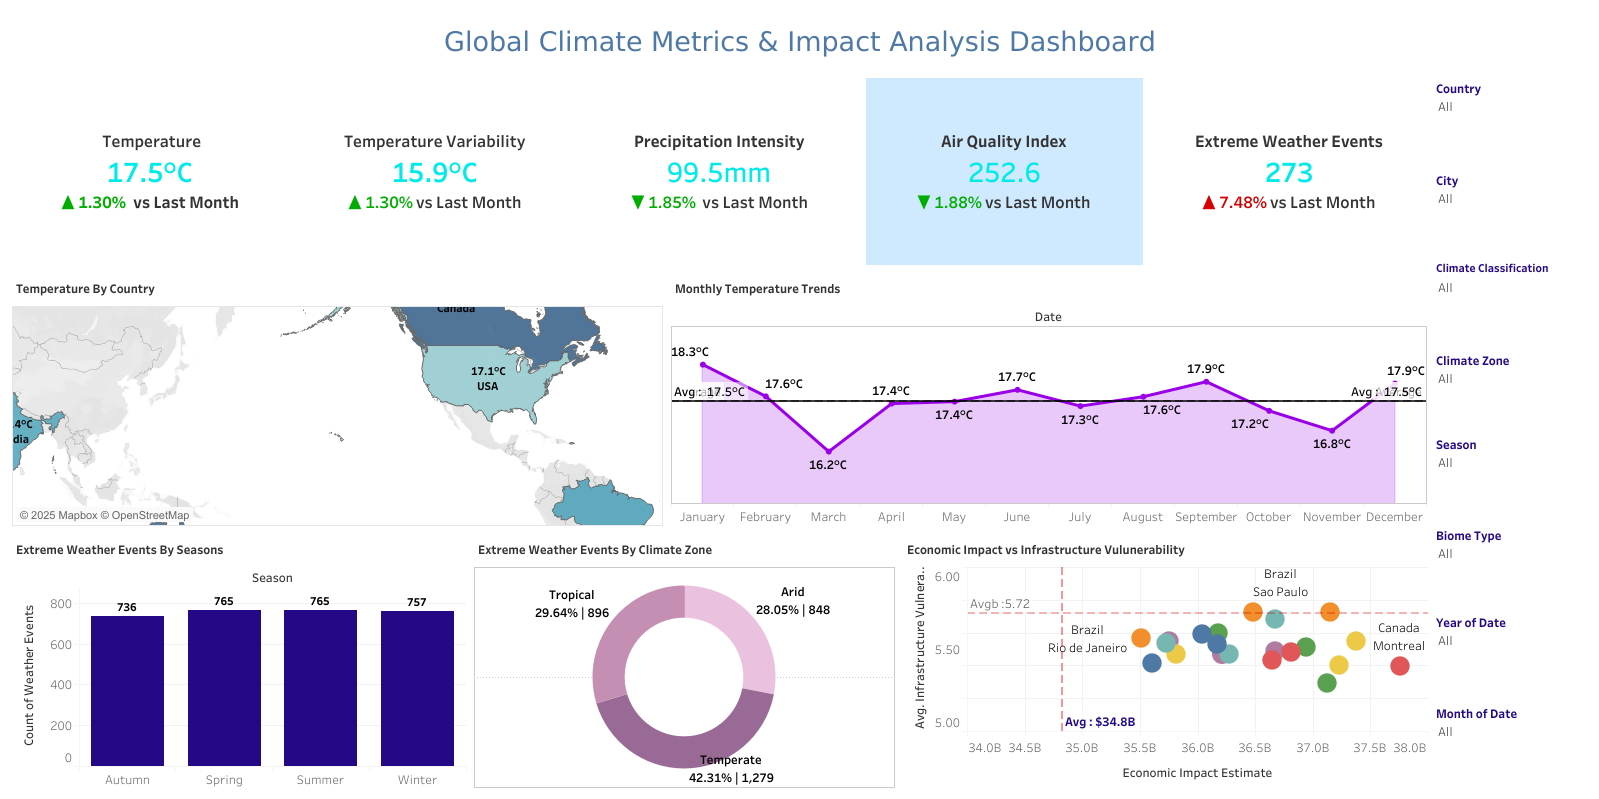

The page's visual inventory and layout, read from the dashboard file:
{"tool":"tableau","page":{"name":"Dashboard 1","canvas":[1600,800],"ordinal":0},"visuals":[{"type":"title","box":[8,8,1584,66]},{"type":"worksheet","title":"TEM","mark":"Automatic","box":[8,74,284.8,195]},{"type":"worksheet","title":"TEMP VAR","mark":"Automatic","box":[292.8,74,284.8,195]},{"type":"worksheet","title":"PCI","mark":"Automatic","box":[577.6,74,284.8,195]},{"type":"worksheet","title":"AQI","mark":"Automatic","box":[862.4,74,284.8,195]},{"type":"worksheet","title":"EWE","mark":"Automatic","box":[1147.2,74,284.8,195]},{"type":"filter","title":"Sheet 15","param":"[federated.1abbkwf12dhwoo100k8ox0incbjb].[none:Country:nk]","box":[1432,74,160,92.5]},{"type":"filter","title":"Sheet 15","param":"[federated.1abbkwf12dhwoo100k8ox0incbjb].[none:City:nk]","box":[1432,166.5,160,89]},{"type":"filter","title":"Sheet 15","param":"[federated.1abbkwf12dhwoo100k8ox0incbjb].[none:Climate Classification:nk]","box":[1432,255.5,160,91]},{"type":"worksheet","title":"Sheet 11","mark":"Automatic","box":[8,269,659,261.5]},{"type":"worksheet","title":"Monthly Temperature Trends ","mark":"Area","rows":["Calculation_1173469246238244871","Calculation_1173469246238244871"],"cols":["Date"],"box":[667,269,765,261.5]},{"type":"filter","title":"Sheet 15","param":"[federated.1abbkwf12dhwoo100k8ox0incbjb].[none:Climate Zone:nk]","box":[1432,346.5,160,84]},{"type":"filter","title":"Sheet 15","param":"[federated.1abbkwf12dhwoo100k8ox0incbjb].[none:Season:nk]","box":[1432,430.5,160,91]},{"type":"filter","title":"Sheet 15","param":"[federated.1abbkwf12dhwoo100k8ox0incbjb].[none:Biome Type:nk]","box":[1432,521.5,160,87]},{"type":"worksheet","title":"EWE by Season ","mark":"Automatic","rows":["Calculation_1170091545209331712"],"cols":["Season"],"box":[8,530.5,462.1,261.5]},{"type":"worksheet","title":"Sheet 14","mark":"Pie","rows":["Calculation_1173469246251692041","Calculation_1173469246251884555"],"box":[470.1,530.5,428.5,261.5]},{"type":"worksheet","title":"Sheet 15","mark":"Circle","rows":["Infrastructure Vulnerability Score"],"cols":["Economic Impact Estimate"],"box":[898.6,530.5,533.4,261.5]},{"type":"filter","title":"Sheet 15","param":"[federated.1abbkwf12dhwoo100k8ox0incbjb].[yr:Date:ok]","box":[1432,608.5,160,91]},{"type":"filter","title":"Sheet 15","param":"[federated.1abbkwf12dhwoo100k8ox0incbjb].[mn:Date:ok]","box":[1432,699.5,160,92.5]}]}

Visuals, with their boxes in screenshot pixels (x1, y1, x2, y2), scaled from the page's 1600x800 canvas onto the 1599x799 screenshot:
title: (8, 8, 1591, 74)
"TEM" worksheet: (8, 74, 293, 269)
"TEMP VAR" worksheet: (293, 74, 577, 269)
"PCI" worksheet: (577, 74, 862, 269)
"AQI" worksheet: (862, 74, 1146, 269)
"EWE" worksheet: (1146, 74, 1431, 269)
"Sheet 15" filter: (1431, 74, 1591, 166)
"Sheet 15" filter: (1431, 166, 1591, 255)
"Sheet 15" filter: (1431, 255, 1591, 346)
"Sheet 11" worksheet: (8, 269, 667, 530)
"Monthly Temperature Trends " worksheet (Area marks): (667, 269, 1431, 530)
"Sheet 15" filter: (1431, 346, 1591, 430)
"Sheet 15" filter: (1431, 430, 1591, 521)
"Sheet 15" filter: (1431, 521, 1591, 608)
"EWE by Season " worksheet: (8, 530, 470, 791)
"Sheet 14" worksheet (Pie marks): (470, 530, 898, 791)
"Sheet 15" worksheet (Circle marks): (898, 530, 1431, 791)
"Sheet 15" filter: (1431, 608, 1591, 699)
"Sheet 15" filter: (1431, 699, 1591, 791)
